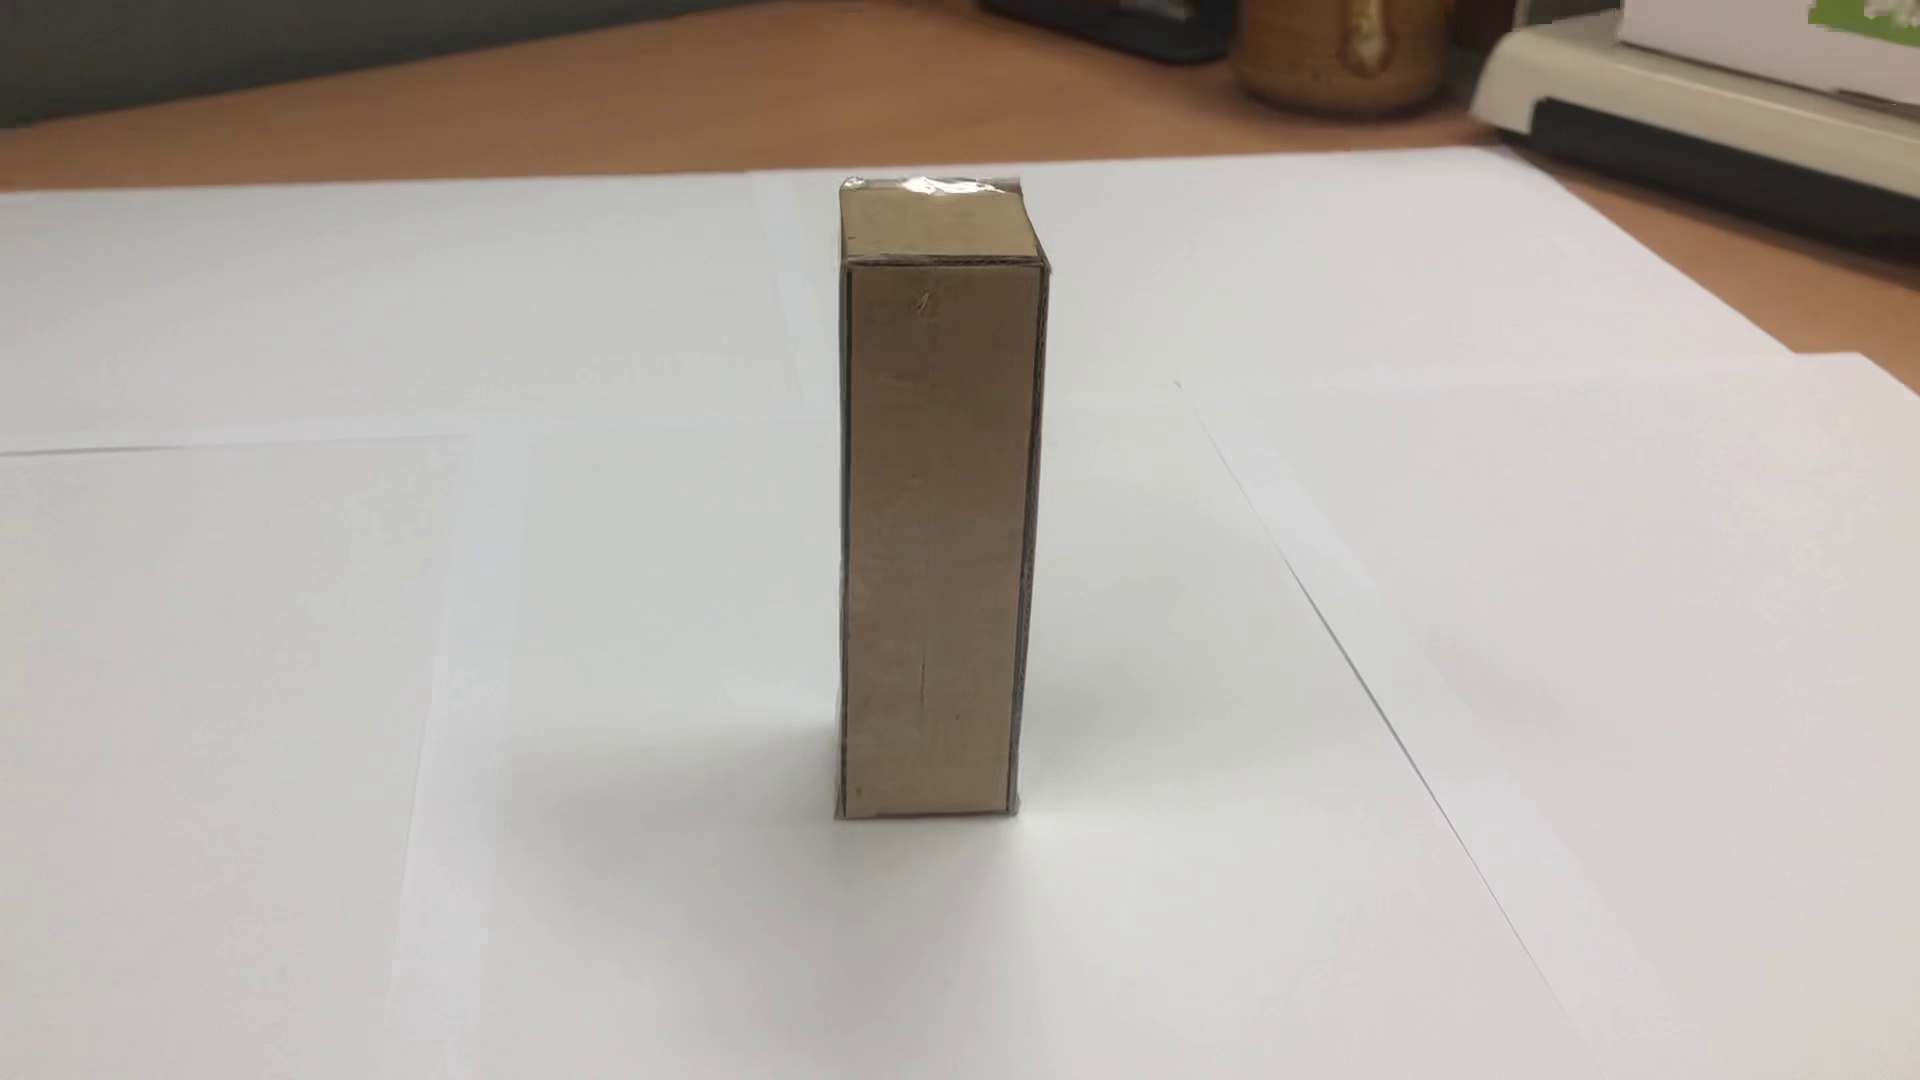box: (822, 167, 1072, 852)
